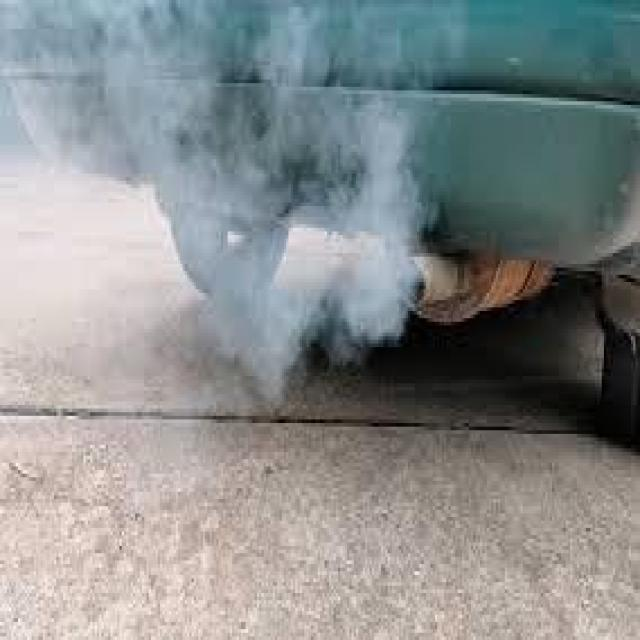Smoke: (4, 9, 470, 424)
